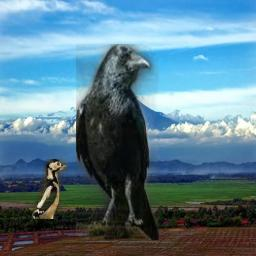Crow: (76, 44, 159, 240)
Woodpecker: (31, 159, 67, 219)
